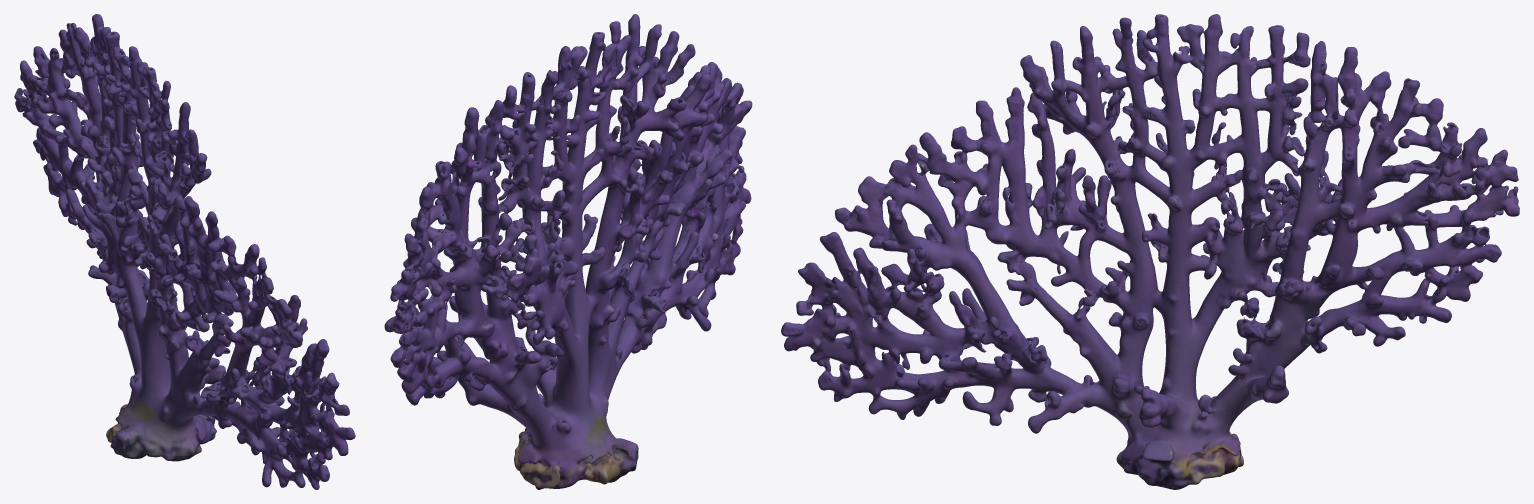
Rendered from coral_fan_a.glb.
The picture shows the model from 3 angles, left to right: view 1: azimuth 30°, elevation 25°; view 2: azimuth 150°, elevation 25°; view 3: azimuth 270°, elevation 25°; orthographic projection. The views are drawn at different scales.
Visible parts, largest first — view 1: tripo_node_6ba0572a-7542-42d5-b8fa-c49b231f6e15; view 2: tripo_node_6ba0572a-7542-42d5-b8fa-c49b231f6e15; view 3: tripo_node_6ba0572a-7542-42d5-b8fa-c49b231f6e15.
Boxes of the visible parts, <box> form: tripo_node_6ba0572a-7542-42d5-b8fa-c49b231f6e15: <box>14,14,355,489</box>; tripo_node_6ba0572a-7542-42d5-b8fa-c49b231f6e15: <box>384,14,752,489</box>; tripo_node_6ba0572a-7542-42d5-b8fa-c49b231f6e15: <box>781,14,1519,489</box>.
Size of the model in its own units: 0.22 by 0.6703 by 1.
1 material, 1 textured.
